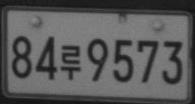3: (162, 40, 184, 84)
4: (36, 36, 58, 79)
5: (113, 38, 134, 83)
7: (137, 39, 159, 82)
8: (11, 35, 33, 79)
9: (86, 37, 108, 81)
루: (60, 44, 81, 80)
